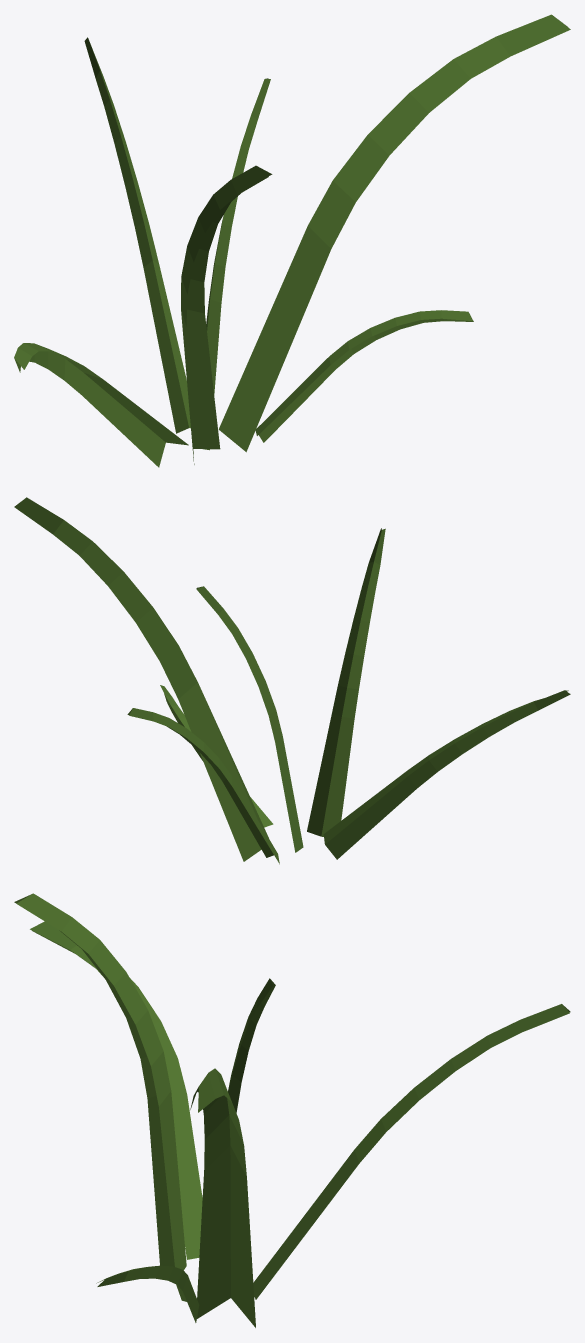
File: grass3.fbx
The picture shows the model from 3 angles, top to bottom: view 1: azimuth 30°, elevation 25°; view 2: azimuth 150°, elevation 25°; view 3: azimuth 270°, elevation 25°; orthographic projection. The views are drawn at different scales.
Visible parts, largest first — view 1: Plane.001, Plane.005, Plane.006, Plane.010, Plane.003, Plane; view 2: Plane.001, Plane.005, Plane.010, Plane, Plane.006, Plane.003; view 3: Plane.001, Plane.005, Plane.006, Plane.010, Plane.003, Plane.
Part boxes in pixels (x1,y1,x2,y2): Plane.001: [218, 14, 570, 452]; Plane.005: [181, 165, 272, 464]; Plane.006: [84, 37, 190, 433]; Plane.010: [14, 343, 188, 467]; Plane.003: [255, 310, 473, 442]; Plane: [203, 78, 270, 450]; Plane.001: [14, 497, 268, 861]; Plane.005: [307, 528, 385, 836]; Plane.010: [323, 690, 570, 859]; Plane: [196, 586, 303, 852]; Plane.006: [127, 708, 279, 864]; Plane.003: [160, 685, 273, 827]; Plane.001: [190, 1068, 255, 1327]; Plane.005: [14, 893, 186, 1270]; Plane.006: [253, 1004, 570, 1299]; Plane.010: [30, 921, 202, 1259]; Plane.003: [96, 1265, 199, 1322]; Plane: [228, 978, 275, 1112].
Size of the model in its own units: 368 by 207 by 259.
